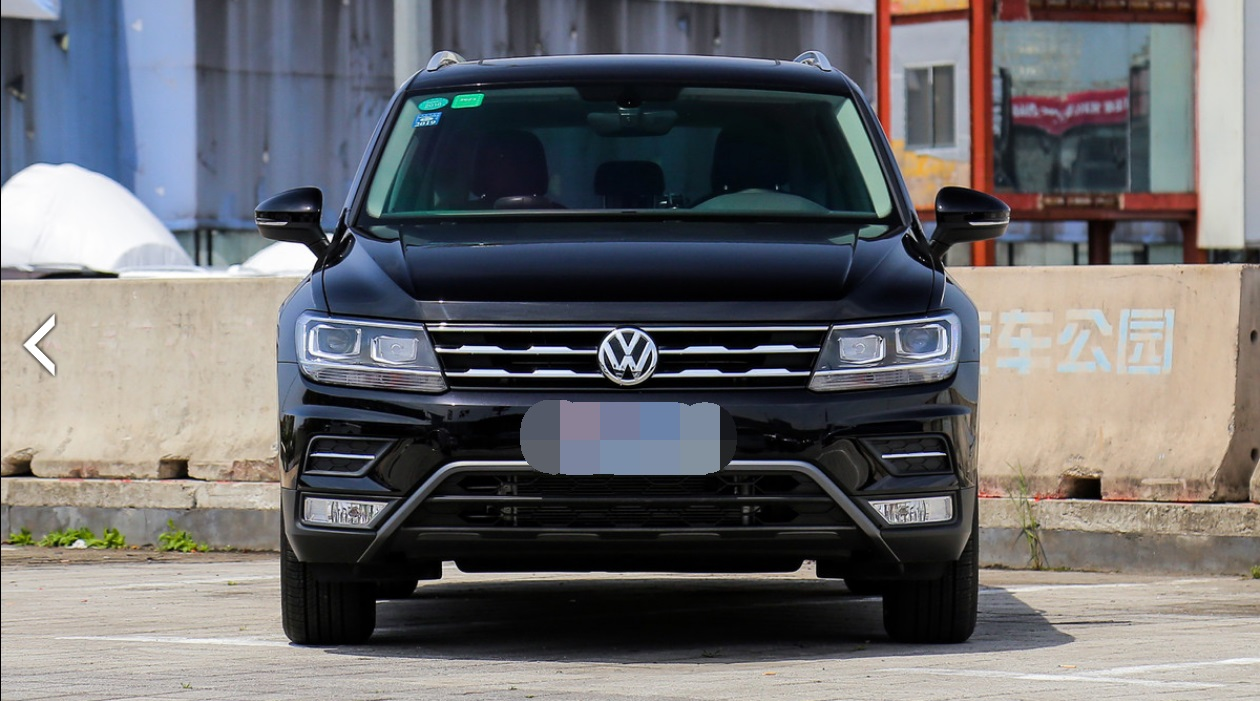SUV: (250, 46, 1012, 652)
